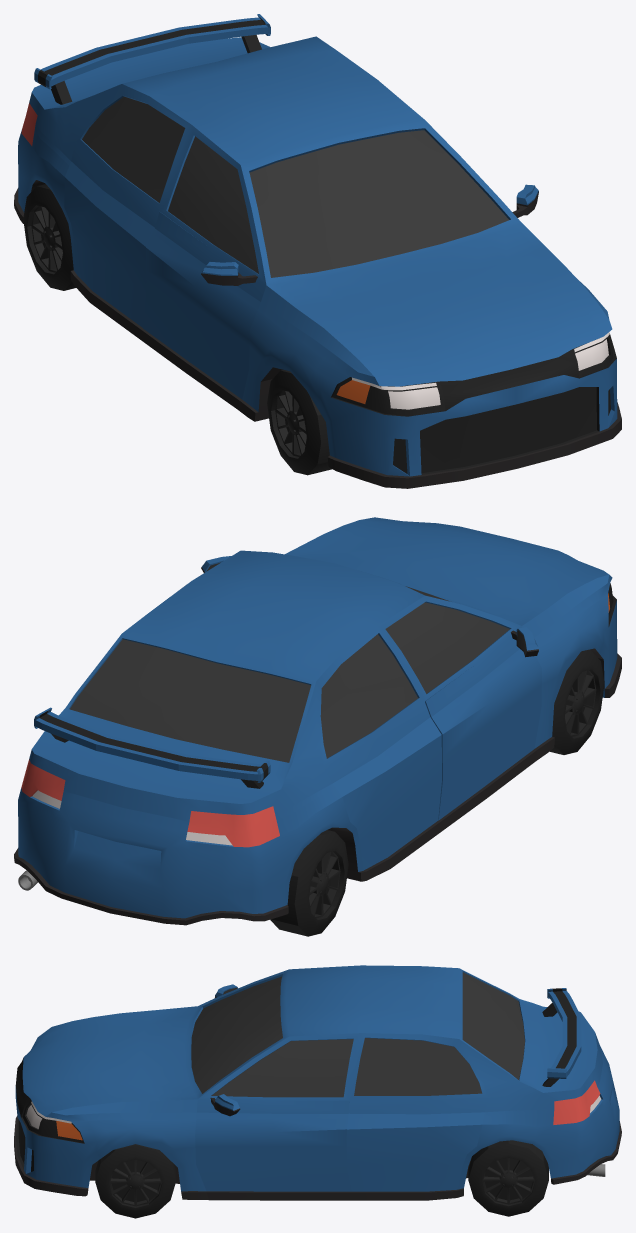
Rendered from car_player1 1.fbx.
The picture shows the model from 3 angles, top to bottom: view 1: azimuth 30°, elevation 25°; view 2: azimuth 150°, elevation 25°; view 3: azimuth 270°, elevation 25°; orthographic projection. The views are drawn at different scales.
Visible parts, largest first — view 1: car_sports1; view 2: car_sports1; view 3: car_sports1.
Part boxes in pixels (left/top/right/bottom): car_sports1: left=14, top=14, right=621, bottom=488; car_sports1: left=14, top=517, right=621, bottom=936; car_sports1: left=14, top=965, right=621, bottom=1218.
Size of the model in its own units: 49.45 by 32.27 by 103.
